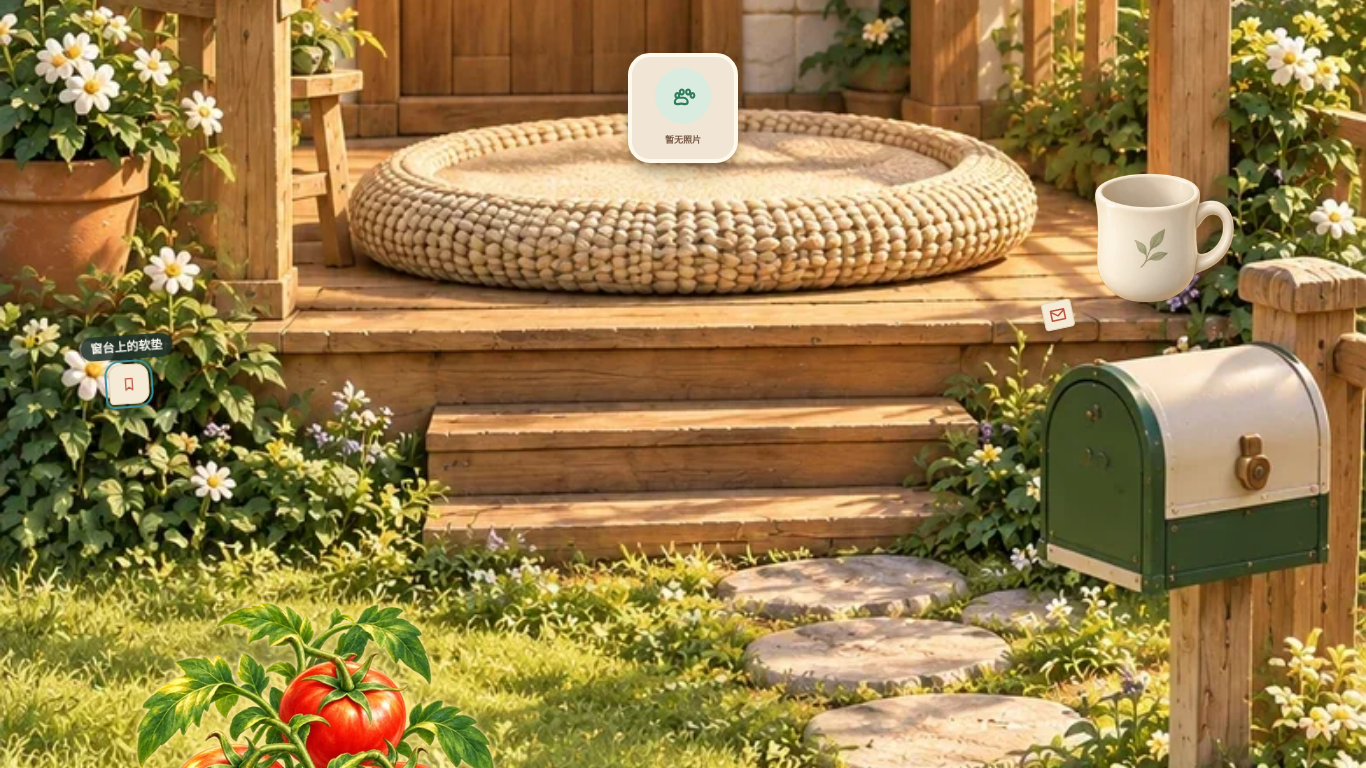
Test: 场景里的东西平时不写字，点到才冒出名字和能做的事 › Esc 收起气泡，焦点回到那件东西上
(page scrolled)
Click the button named "你留下的叮嘱：窗台上的软垫": [129, 384] box [108, 363, 151, 406]
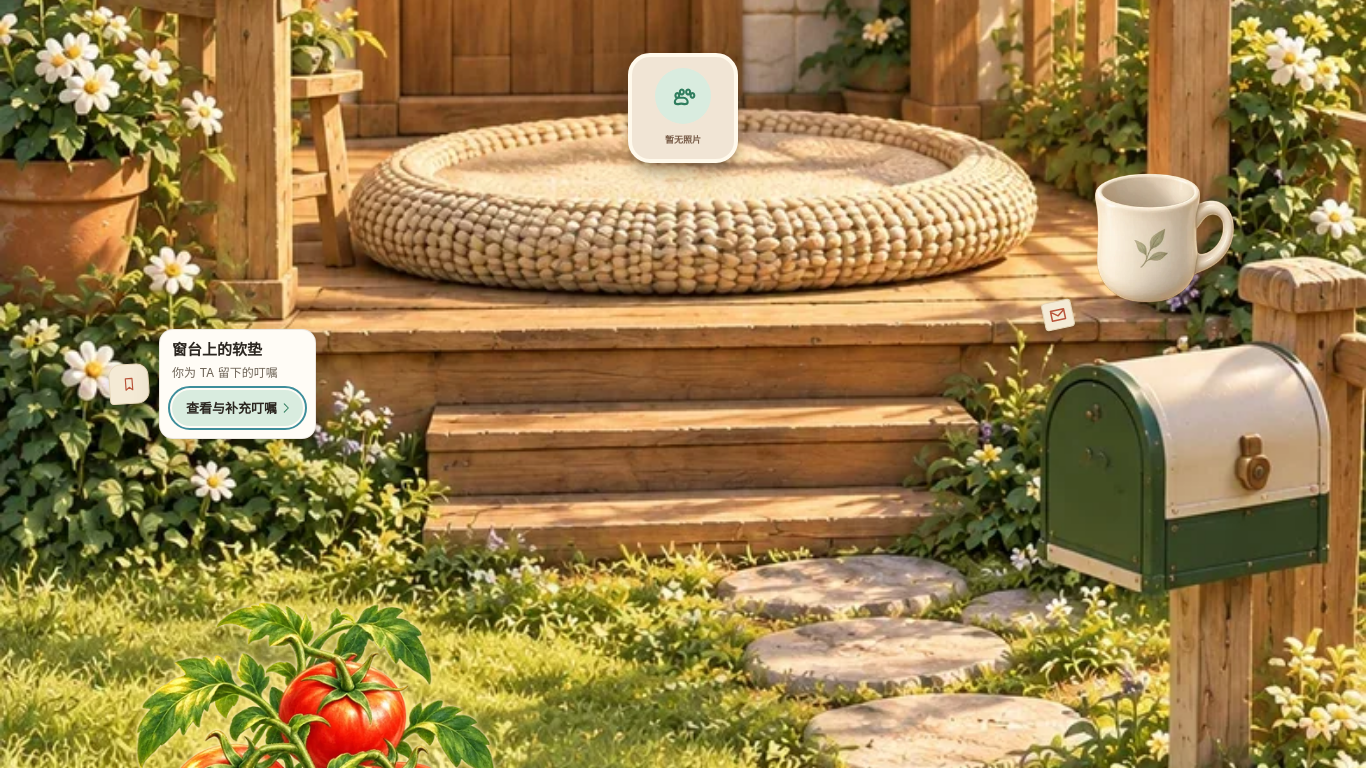
Result: the element "窗台上的软垫" shows "你为 TA 留下的叮嘱" at [172, 365, 278, 380]
Press Escape
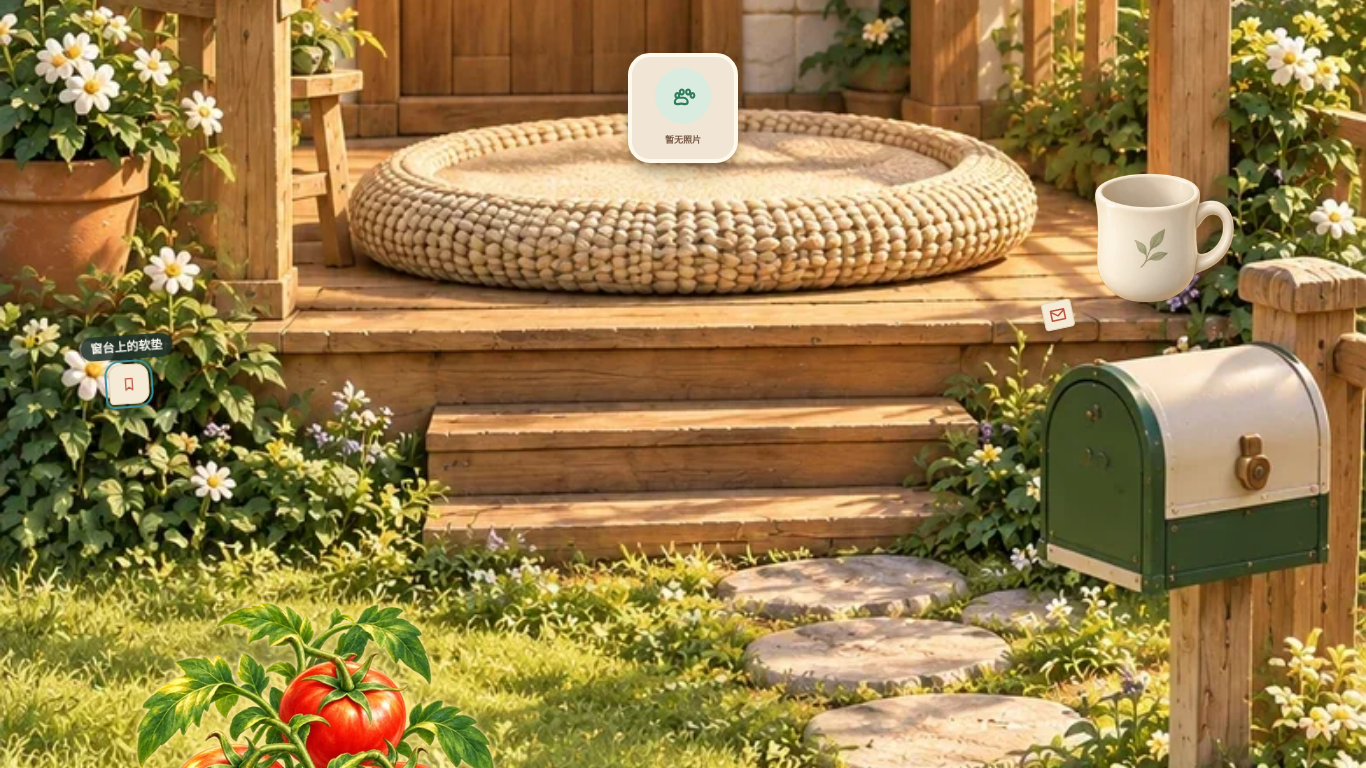
Result: the text "窗台上的软垫" is gone
